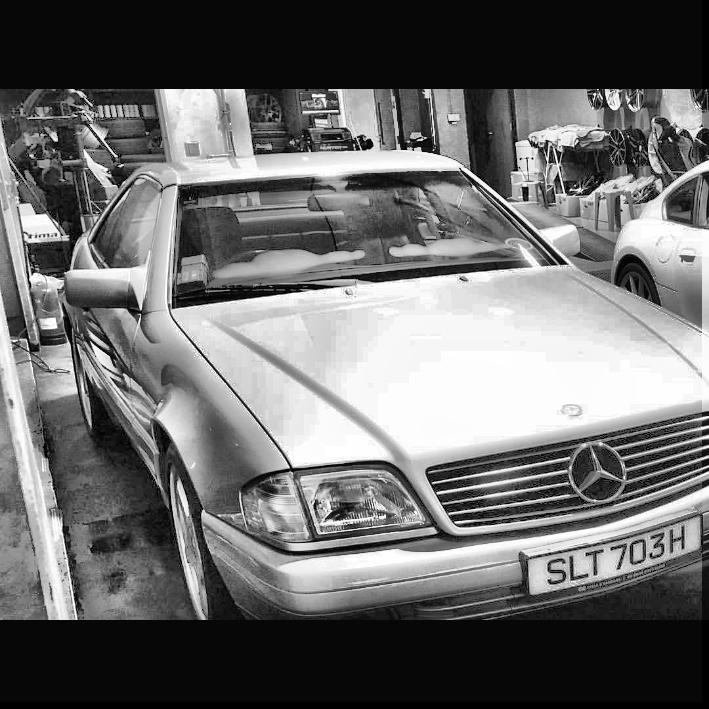License-Plates: (529, 515, 700, 592)
